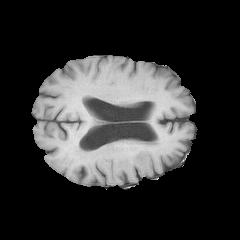glioma: (76, 137, 167, 174)
